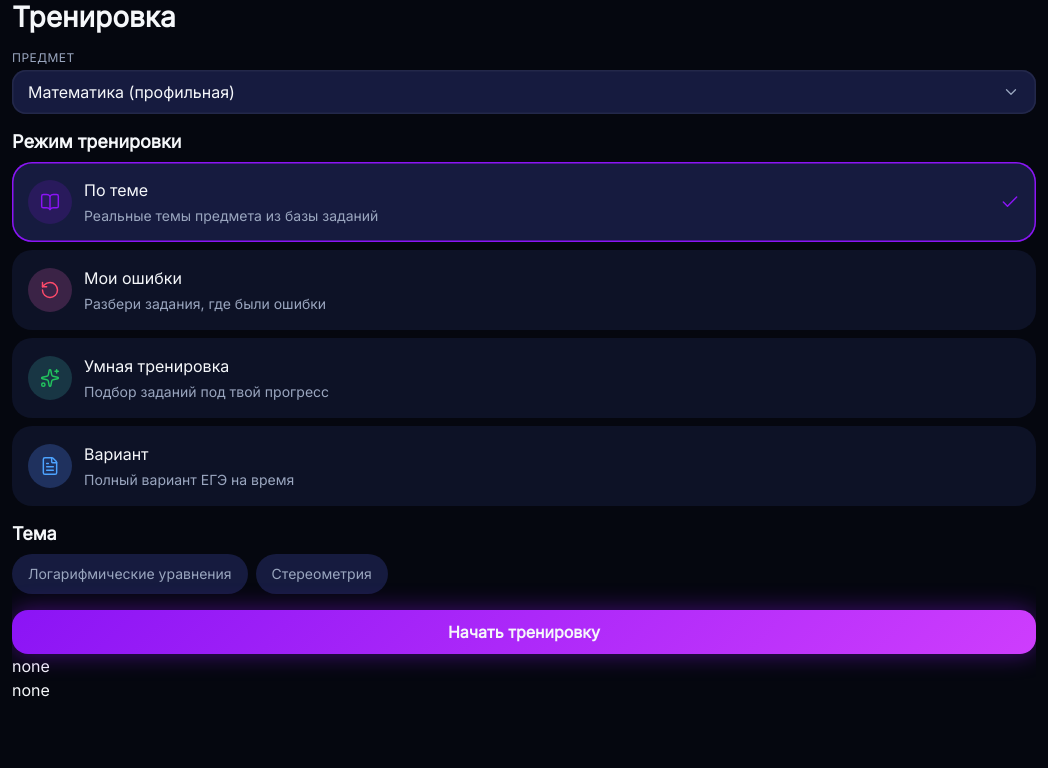
Test: Training — "По теме" (real topics, independent 🎲/🔄, numbers, amount) › 🎲 and 🔄 are independent for topic training — both can be on at once
The width and height of the screenshot is (1048, 768).
Later steps or results of the test are not shown.
Click the button "Логарифмические уравнения".
click(130, 574)  # box [12,554,248,594]
(page scrolled)
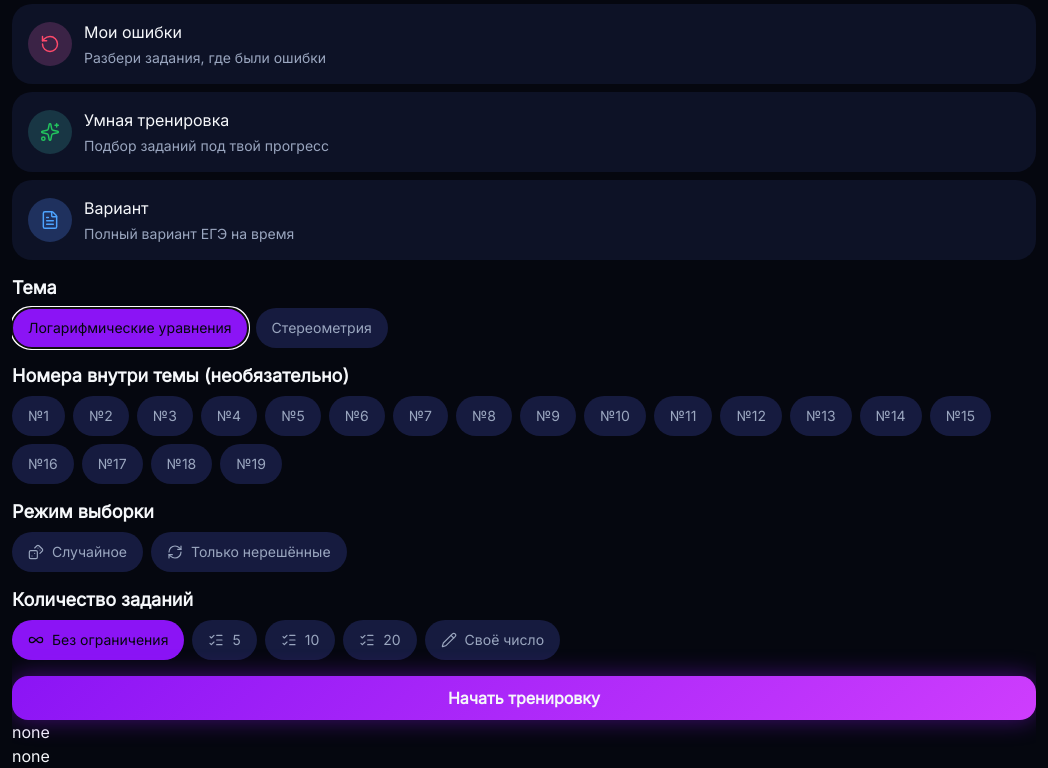
Click the button "Случайное".
click(78, 552)  # box [12,532,143,572]
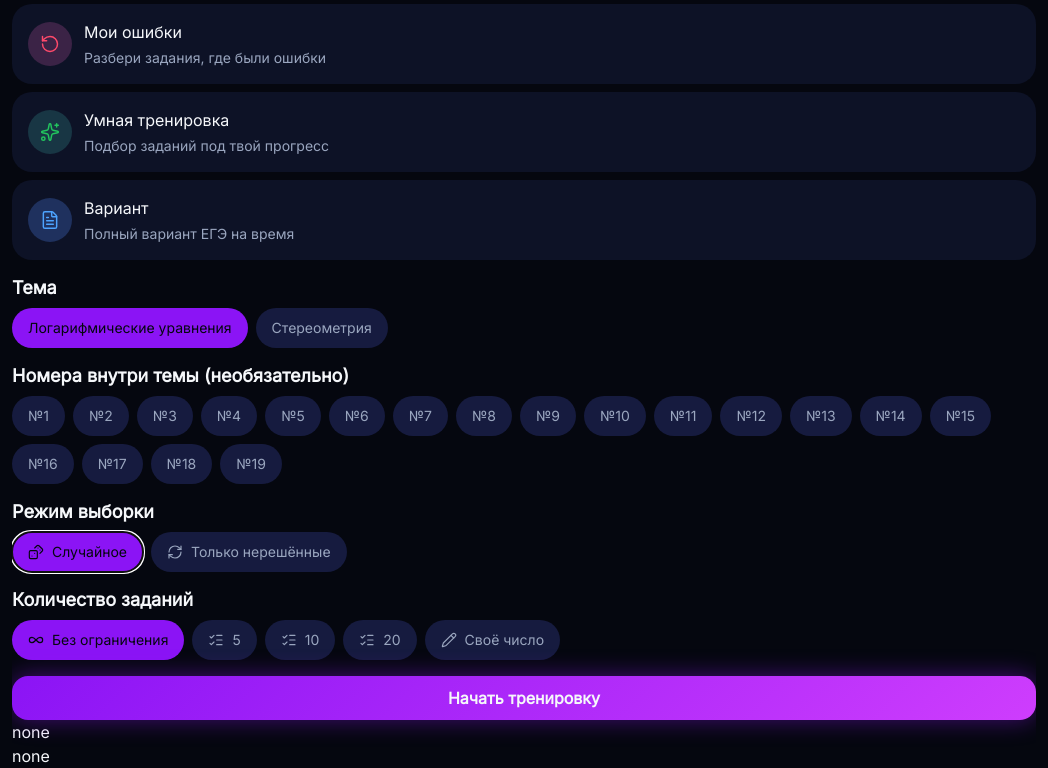
Click the button "Только нерешённые".
click(249, 552)  # box [151,532,347,572]
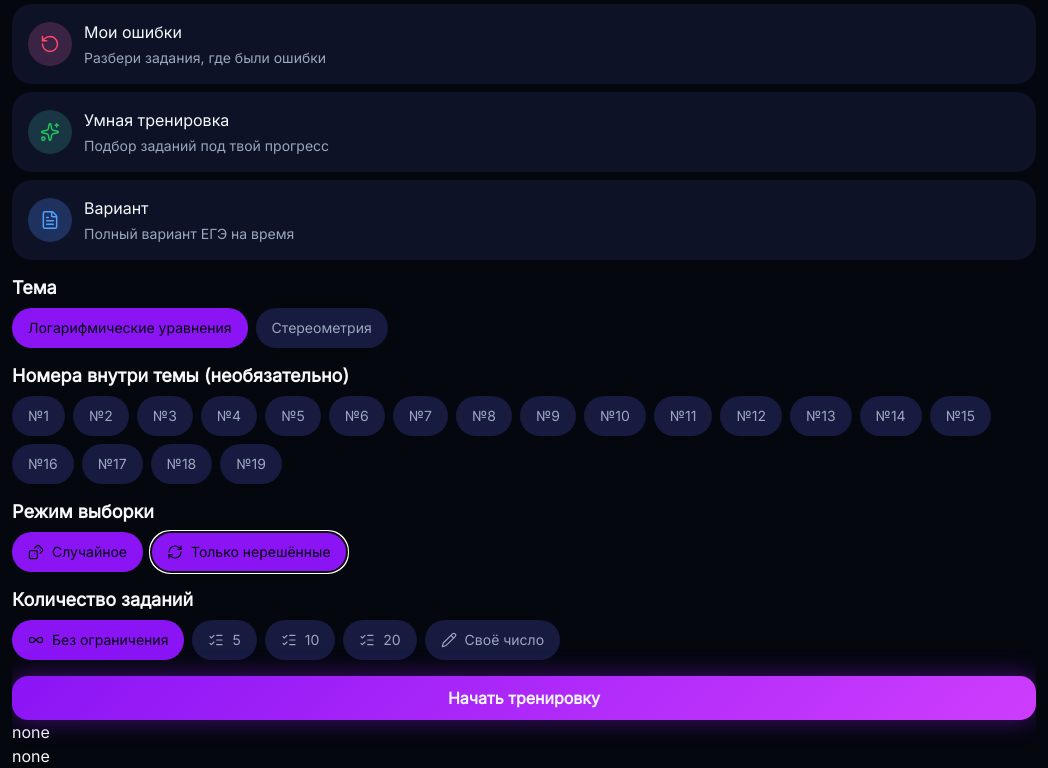
Expected: the button "Случайное" is pressed, [12,532,143,572]
Expected: the button "Только нерешённые" is pressed, [151,532,347,572]
